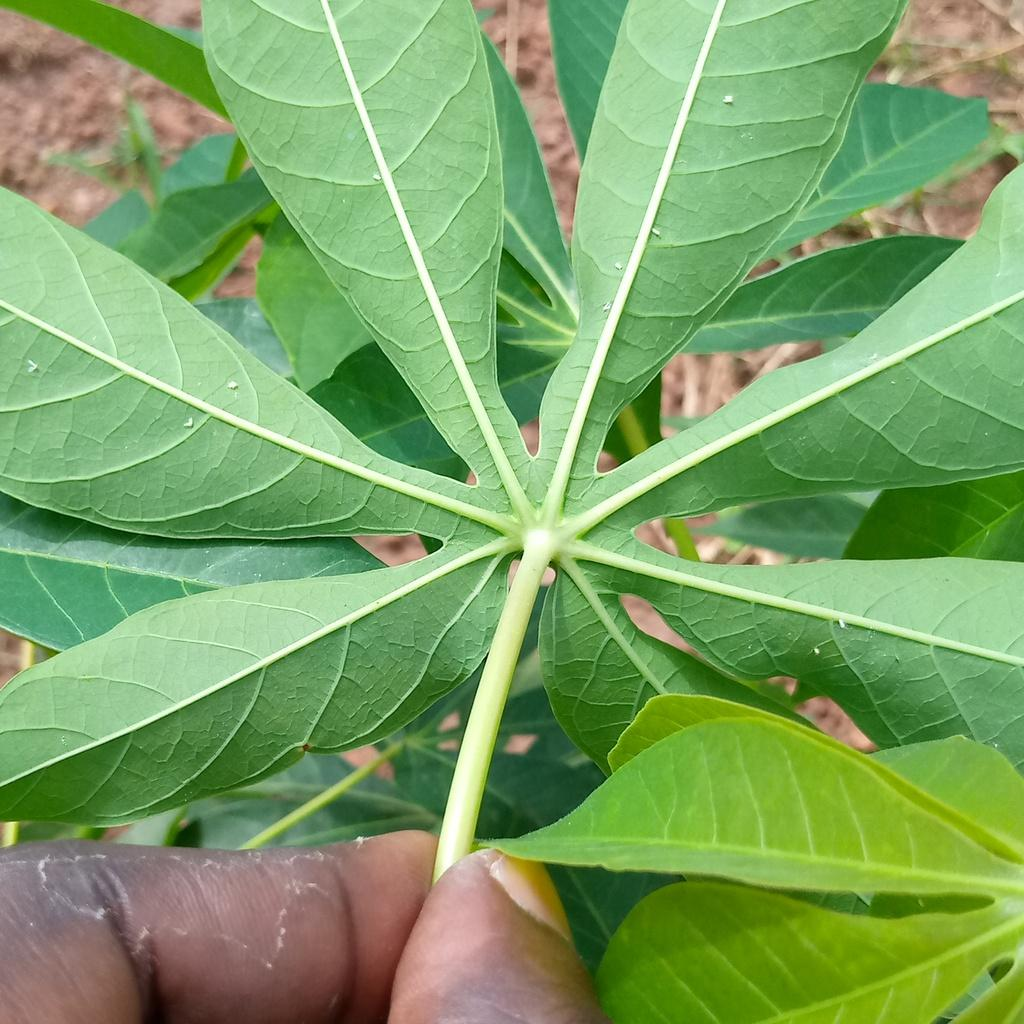adult: (26, 359, 39, 372), (183, 417, 193, 428), (227, 380, 238, 390), (602, 302, 612, 312), (838, 619, 847, 629), (651, 228, 660, 237), (372, 173, 382, 181), (869, 353, 879, 361), (723, 95, 733, 103), (614, 262, 623, 270), (813, 647, 820, 655)
